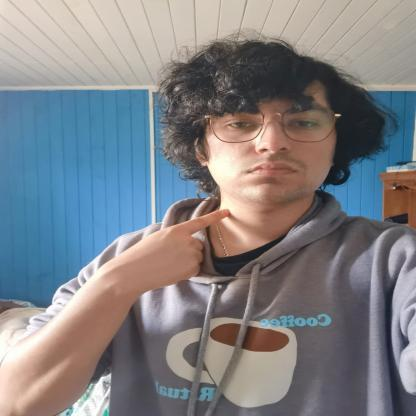Q: (94, 209, 232, 288)
